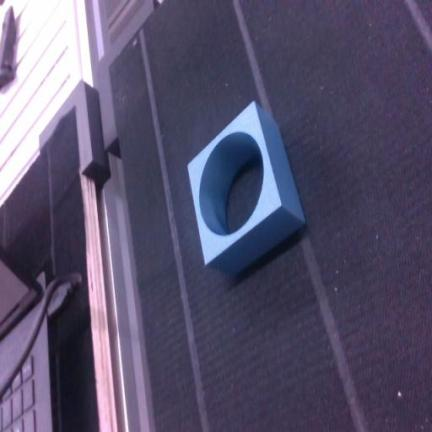square: (189, 103, 304, 273)
